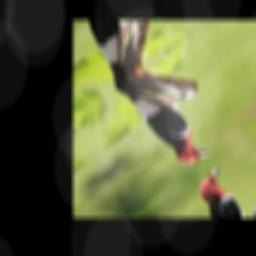Woodpecker: (114, 59, 216, 184)
